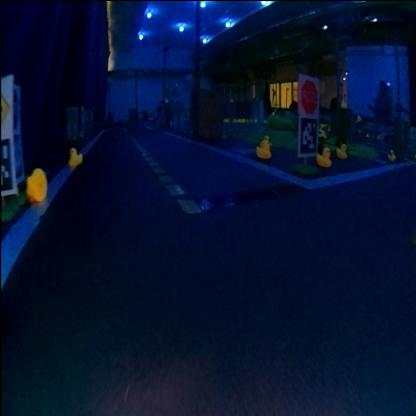Duckie: (26, 167, 46, 201), (255, 139, 271, 157), (316, 148, 331, 166), (68, 146, 83, 164), (335, 142, 347, 158), (388, 148, 396, 158)
QR code: (298, 116, 318, 151), (0, 136, 13, 188)
Stop sign: (301, 77, 318, 113)
